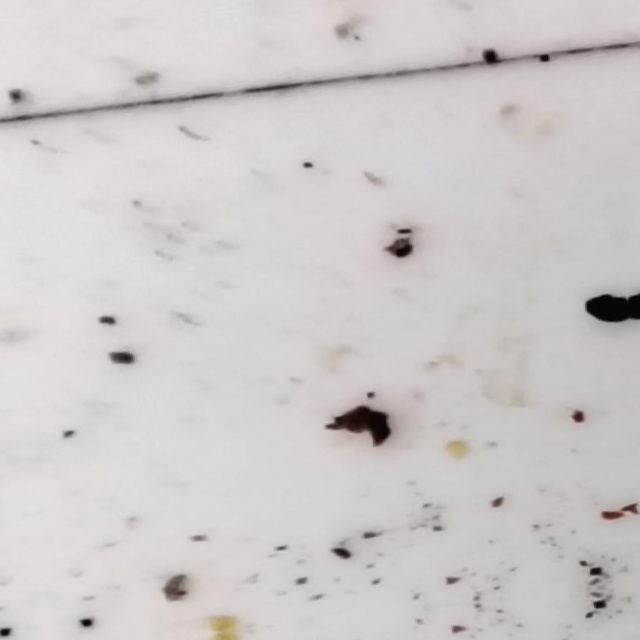varroa: (580, 294, 629, 329)
